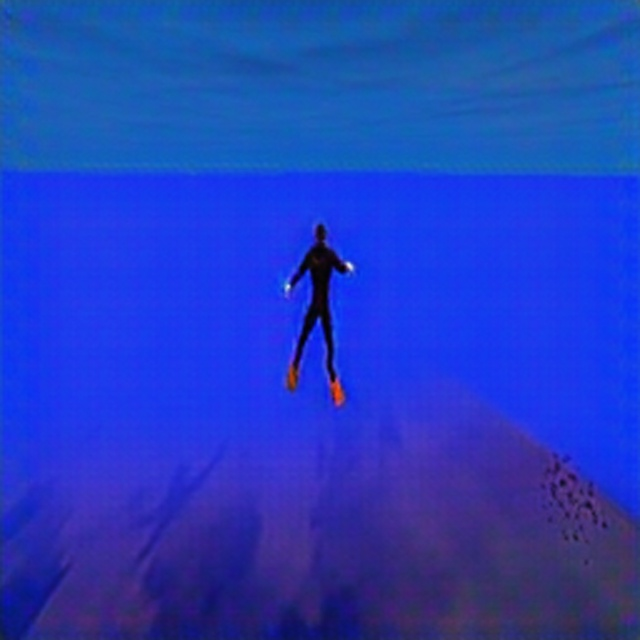diver: (280, 220, 356, 408)
